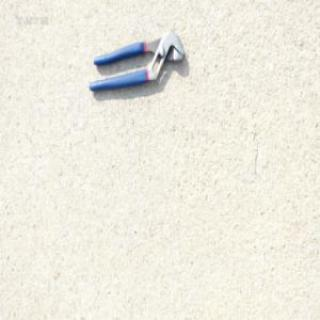Pliertrack_idkeyframe: (87, 27, 183, 92)
